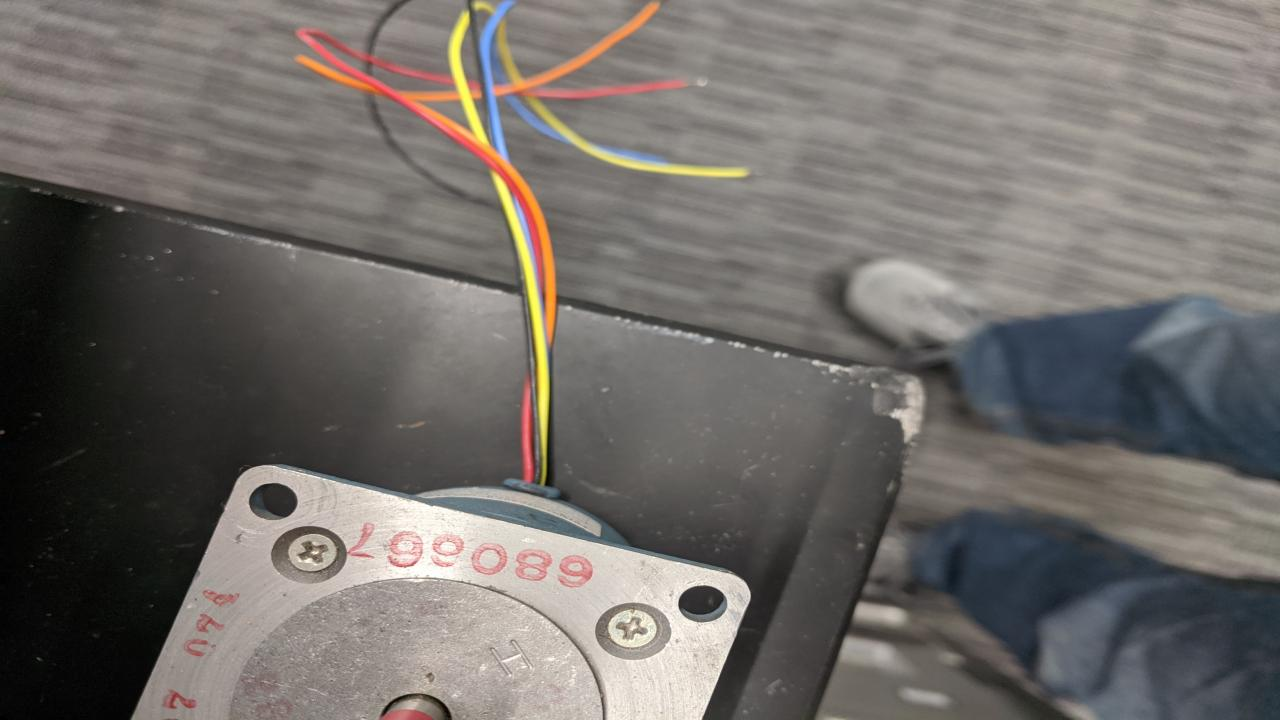CRS: (603, 607, 660, 649), (285, 529, 339, 571)
